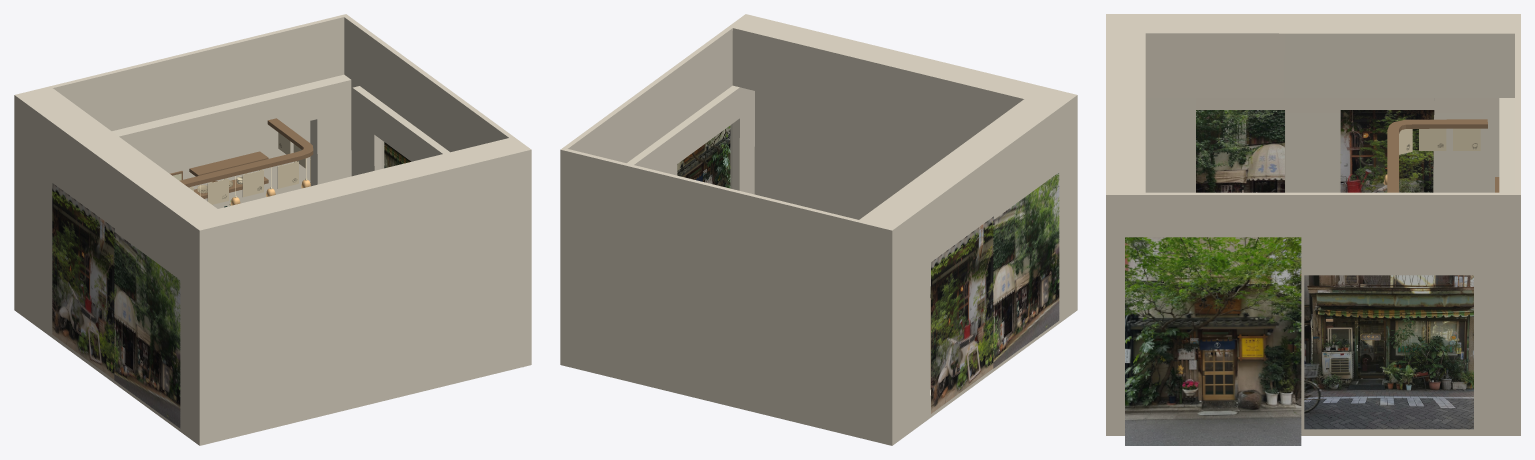
The model's file is room.fbx.
3 renders of one model, left to right at view 1: azimuth 30°, elevation 25°; view 2: azimuth 150°, elevation 25°; view 3: azimuth 270°, elevation 25°, orthographic. The views are drawn at different scales.
Parts seen in each view (by area): view 1: Cube, window3.001, window1.001, cloth, wooden fixture, shelf; view 2: Cube, window3.001, window1.001, window4.001; view 3: Cube, window4.001, window2.001, window3.001, window1.001, wooden fixture, cloth.
Boxes of the visible parts, <box> form: Cube: <box>14,14,531,445</box>; window3.001: <box>114,232,180,428</box>; window1.001: <box>52,183,114,379</box>; cloth: <box>189,132,310,204</box>; wooden fixture: <box>179,118,313,187</box>; shelf: <box>189,151,268,198</box>; Cube: <box>560,14,1077,445</box>; window3.001: <box>993,172,1059,368</box>; window1.001: <box>931,216,993,413</box>; window4.001: <box>677,125,730,188</box>; Cube: <box>1106,14,1520,435</box>; window4.001: <box>1125,237,1301,445</box>; window2.001: <box>1304,275,1473,429</box>; window3.001: <box>1196,110,1284,192</box>; window1.001: <box>1340,110,1434,192</box>; wooden fixture: <box>1387,119,1487,192</box>; cloth: <box>1399,128,1480,154</box>.
Size of the model in its own units: 3156 by 2020 by 3030.
Materials: 32 (15 with a texture image).
